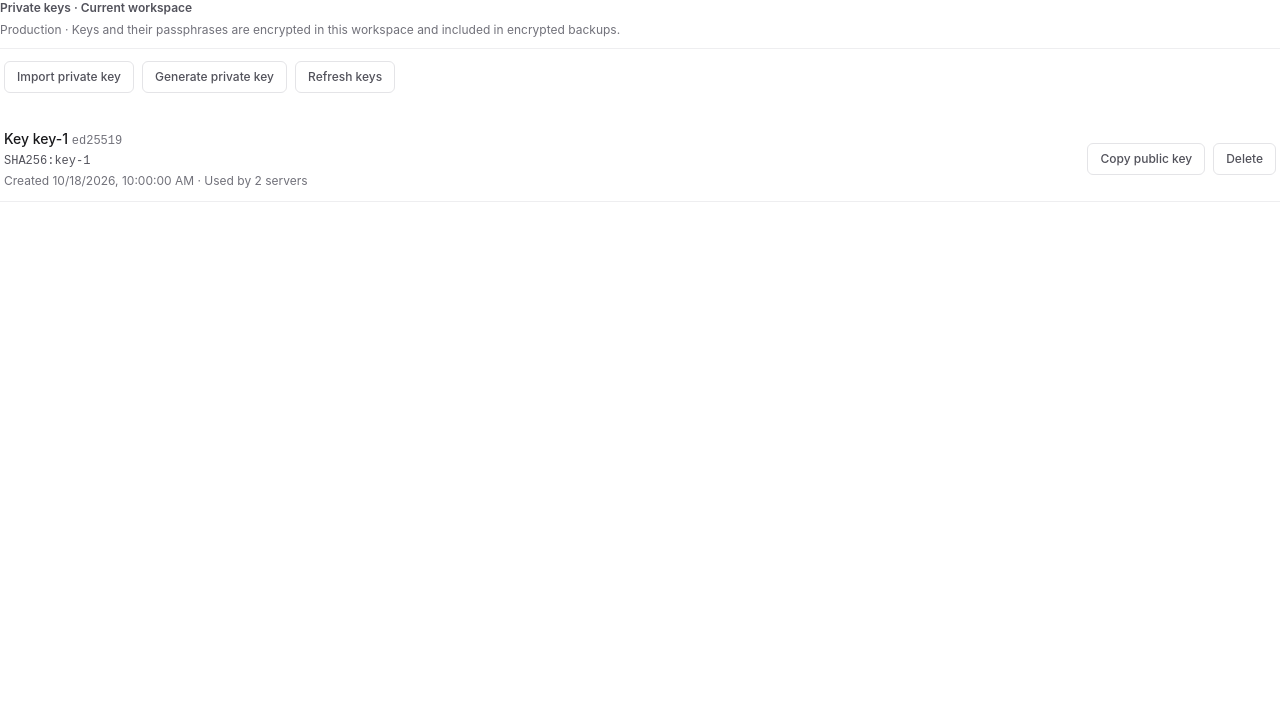
Scenario: current workspace private keys › R42 forgets a consumed file token after import returns unauthorized
Click the button "Import private key".
click(69, 76)  # box [4, 60, 134, 92]
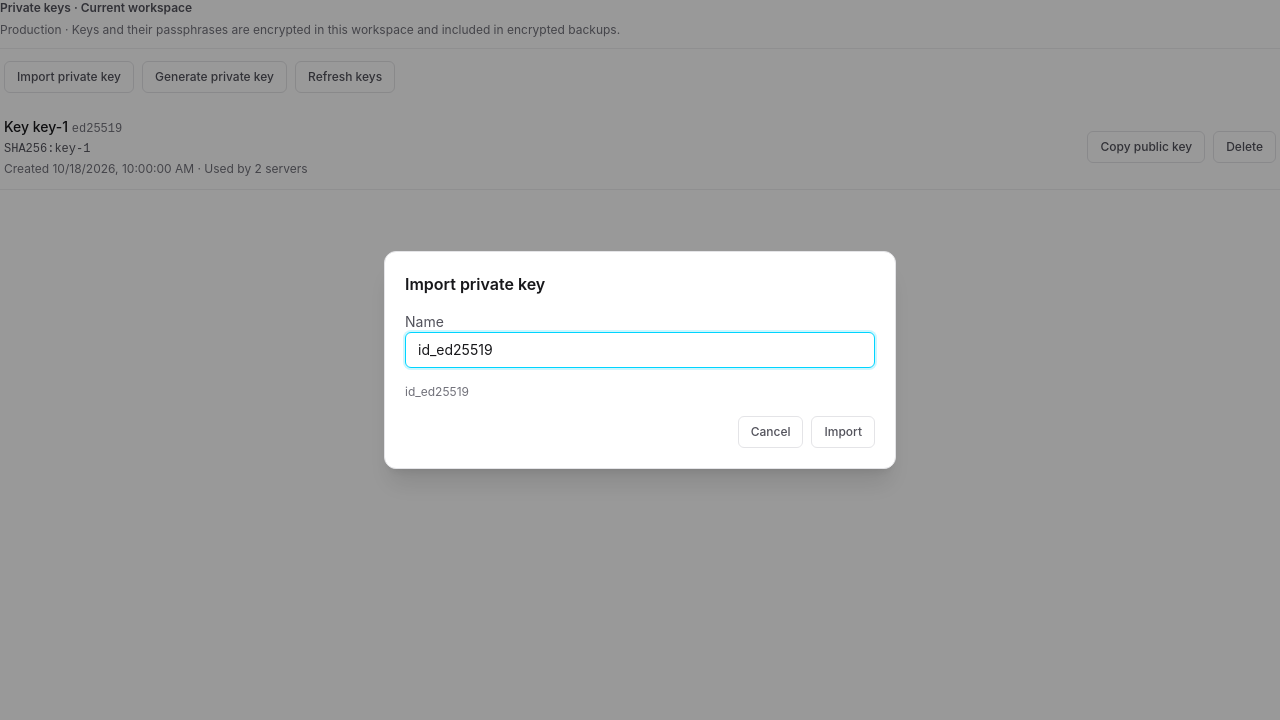
Submit the form, box [405, 312, 875, 448]
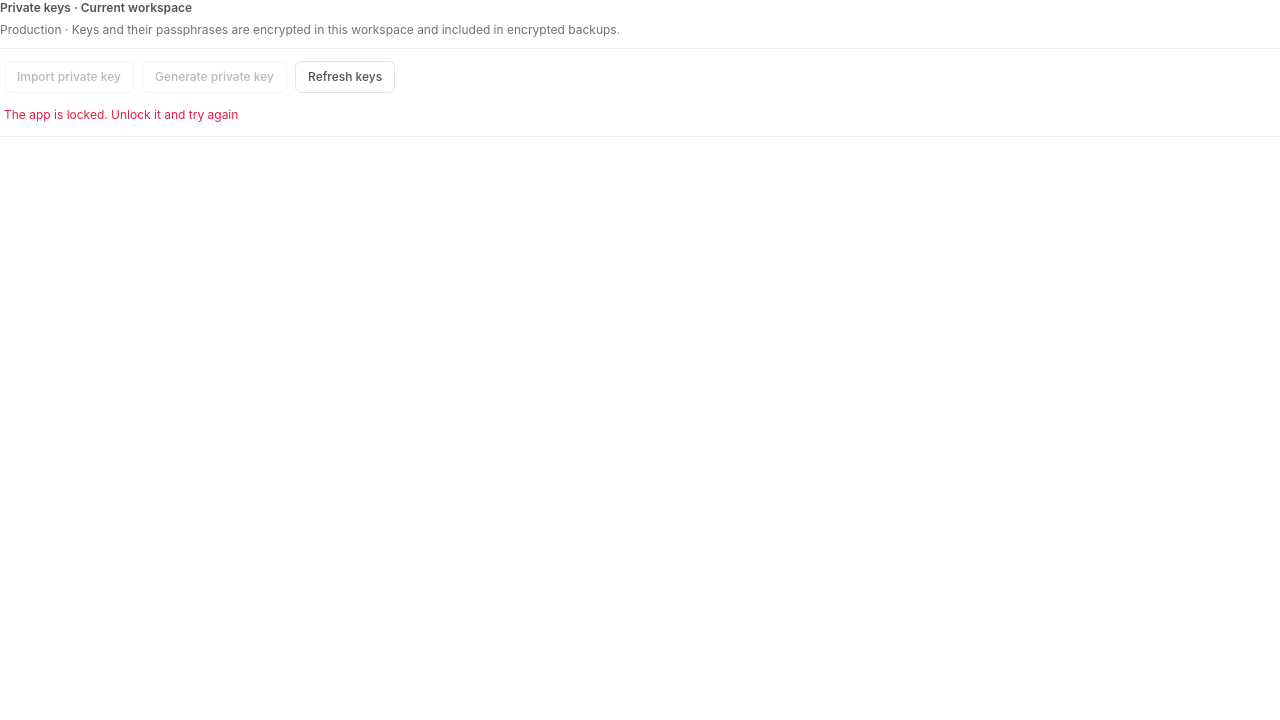
Expected: the dialog is gone
Expected: the button "Import private key" is disabled, [4, 60, 134, 92]
